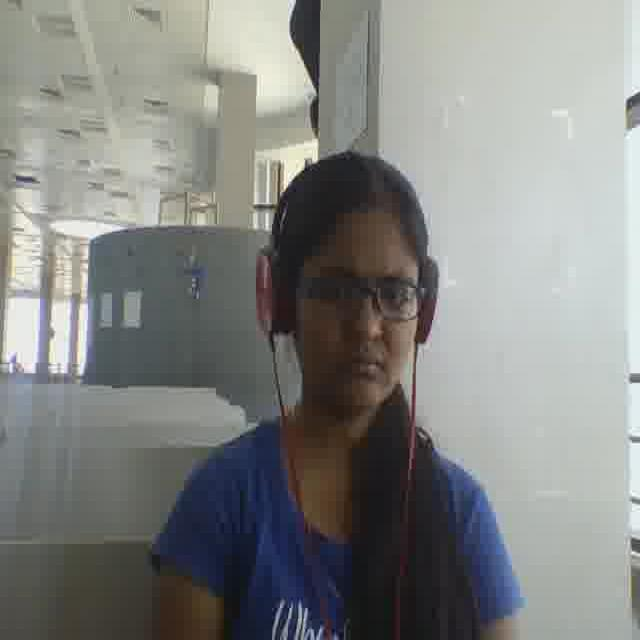Boredom: (302, 213, 415, 408)
